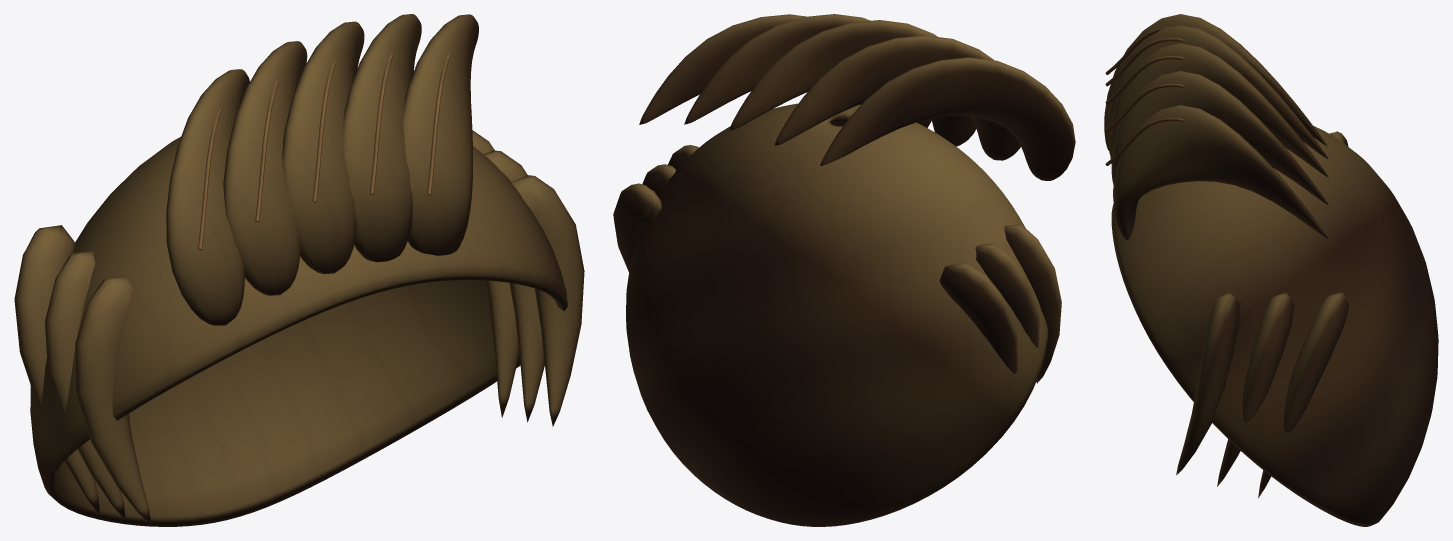
The model's file is 08_Hair.fbx.
3 views of the same model, side by side, from view 1: azimuth 30°, elevation 25°; view 2: azimuth 150°, elevation 25°; view 3: azimuth 270°, elevation 25° (orthographic). The views are drawn at different scales.
Parts seen in each view (by area): view 1: Hair cap, Swept forelock 04, Swept forelock 00, Swept forelock 02, Swept forelock 01, Swept forelock 03, Temple lock.R0, Temple lock.L0, Temple lock.R2, Temple lock.R1, Temple lock.L1, Temple lock.L2 (+5 smaller); view 2: Hair cap, Swept forelock 00, Swept forelock 01, Swept forelock 02, Swept forelock 03, Swept forelock 04, Temple lock.R2, Temple lock.R0, Temple lock.R1, Temple lock.L2, Temple lock.L1; view 3: Hair cap, Swept forelock 04, Swept forelock 03, Swept forelock 02, Temple lock.L0, Temple lock.L2, Temple lock.L1, Swept forelock 01, Swept forelock 00.
Boxes of the visible parts, x1,y1,x2,y2 form: Hair cap: (30, 137, 567, 526); Swept forelock 04: (403, 14, 478, 255); Swept forelock 00: (166, 69, 249, 325); Swept forelock 02: (282, 21, 364, 273); Swept forelock 01: (223, 41, 307, 295); Swept forelock 03: (343, 14, 421, 262); Temple lock.R0: (75, 276, 151, 524); Temple lock.L0: (511, 175, 584, 426); Temple lock.R2: (14, 225, 100, 516); Temple lock.R1: (45, 251, 125, 520); Temple lock.L1: (483, 150, 544, 422); Temple lock.L2: (472, 130, 519, 417); Hair cap: (626, 103, 1048, 526); Swept forelock 00: (820, 57, 1075, 180); Swept forelock 01: (774, 35, 1020, 160); Swept forelock 02: (729, 20, 976, 146); Swept forelock 03: (684, 14, 931, 127); Swept forelock 04: (639, 14, 861, 124); Temple lock.R2: (939, 262, 1017, 373); Temple lock.R0: (1004, 224, 1061, 383); Temple lock.R1: (975, 243, 1039, 347); Temple lock.L2: (613, 183, 661, 272); Temple lock.L1: (642, 164, 676, 195); Hair cap: (1111, 126, 1438, 526); Swept forelock 04: (1113, 105, 1328, 239); Swept forelock 03: (1111, 71, 1328, 204); Swept forelock 02: (1109, 43, 1328, 177); Temple lock.L0: (1176, 293, 1239, 475); Temple lock.L2: (1258, 292, 1348, 498); Temple lock.L1: (1217, 293, 1294, 486); Swept forelock 01: (1107, 25, 1328, 159); Swept forelock 00: (1104, 14, 1327, 150).
Size of the model in its own units: 37.67 by 39.89 by 26.73.
1 material, 1 textured.
